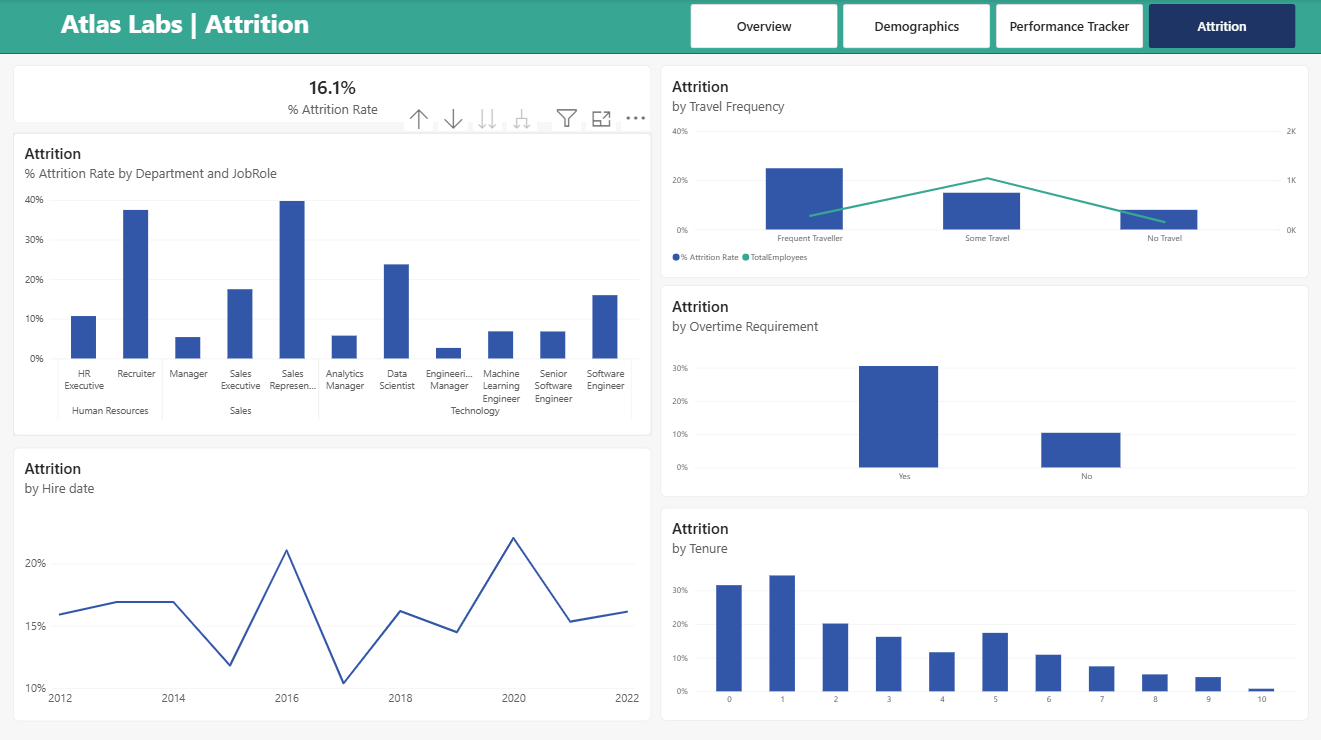

The dashboard page shown, as its layout file describes it:
{"tool":"powerbi","page":{"name":"Attrition","canvas":[1920,1080],"ordinal":3},"visuals":[{"type":"cardVisual","fields":{"Data":["_Measures.% Attrition Rate"]},"box":[22,96,924,84],"z":0},{"type":"clusteredColumnChart","fields":{"Y":["_Measures.% Attrition Rate"],"Category":["DimEmployee.Department","DimEmployee.JobRole"]},"box":[22,194,924,438],"z":1000},{"type":"lineChart","title":"Attrition","fields":{"Y":["_Measures.% Attrition Rate Date"],"Category":["DimDate.Date.Variation.Date Hierarchy.Year","DimDate.Date.Variation.Date Hierarchy.Quarter","DimDate.Date.Variation.Date Hierarchy.Month","DimDate.Date.Variation.Date Hierarchy.Day"]},"box":[22,650,924,396],"z":2000},{"type":"lineClusteredColumnComboChart","title":"Attrition","fields":{"Category":["DimEmployee.BusinessTravel"],"Y":["_Measures.% Attrition Rate"],"Y2":["_Measures.TotalEmployees"]},"box":[960,96,938,308],"z":3000},{"type":"clusteredColumnChart","title":"Attrition","fields":{"Y":["_Measures.% Attrition Rate"],"Category":["DimEmployee.OverTime"]},"box":[960,414,938,306],"z":4000},{"type":"clusteredColumnChart","title":"Attrition","fields":{"Y":["_Measures.% Attrition Rate"],"Category":["DimEmployee.YearsAtCompany"]},"box":[960,736,938,308],"z":5000},{"type":"shape","box":[0,0,1920.1,79.6],"z":6000},{"type":"textbox","box":[0,9,541.1,70.6],"z":7000},{"type":"pageNavigator","box":[1002,8,876,64],"z":8000}]}

Visuals, with their boxes in screenshot pixels (x1, y1, x2, y2), scaled from the page's 1920x1080 canvas onto the 1321x740 screenshot:
cardVisual - _Measures.% Attrition Rate: (15, 66, 651, 123)
clusteredColumnChart - _Measures.% Attrition Rate x DimEmployee.Department: (15, 133, 651, 433)
"Attrition" lineChart: (15, 445, 651, 717)
"Attrition" lineClusteredColumnComboChart: (660, 66, 1306, 277)
"Attrition" clusteredColumnChart: (660, 284, 1306, 493)
"Attrition" clusteredColumnChart: (660, 504, 1306, 715)
shape: (0, 0, 1320, 55)
textbox: (0, 6, 372, 55)
pageNavigator: (689, 5, 1292, 49)
